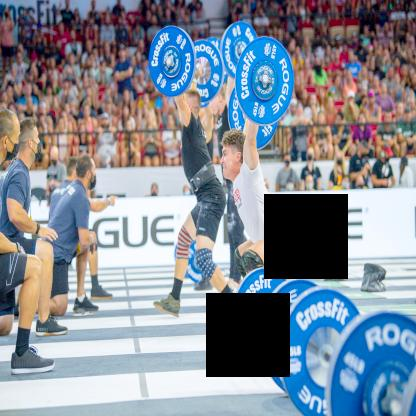barbell: (235, 37, 296, 126), (150, 25, 196, 98)
